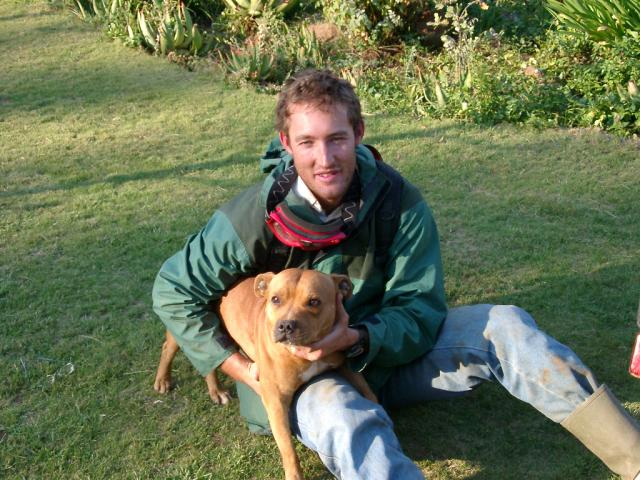Dog: (152, 268, 378, 480)
